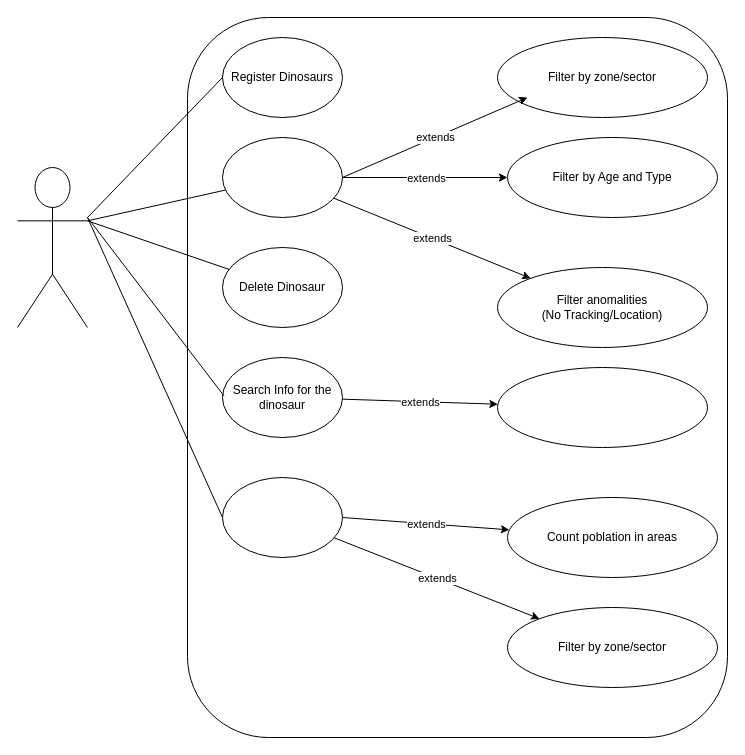
The diagram is 745 pixels wide and 755 high, and some of its shapes have lost their labels. The centre of each missing label's shape, as x and y in pixels:
"Generate static reports" goes at (x=282, y=517).
"Investigador" goes at (x=52, y=247).
"Search by ID/Code" goes at (x=602, y=407).
"Update info for Dinosaur" goes at (x=282, y=177).
